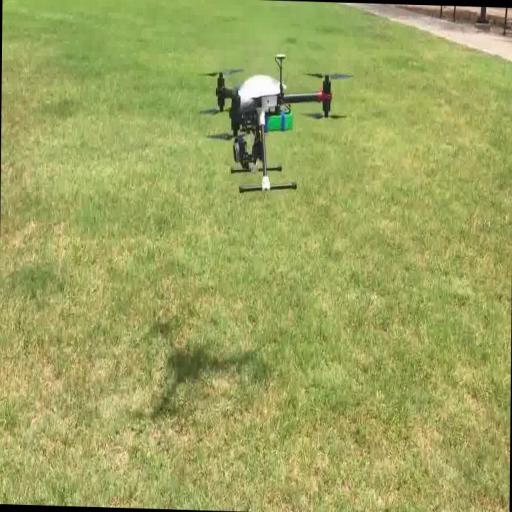drone: (198, 51, 355, 196)
